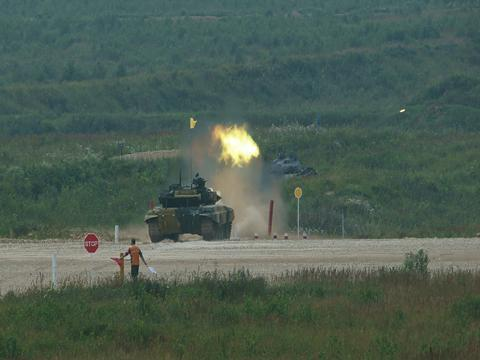person: (126, 238, 142, 281), (191, 171, 204, 188)
tank: (145, 183, 236, 243)
